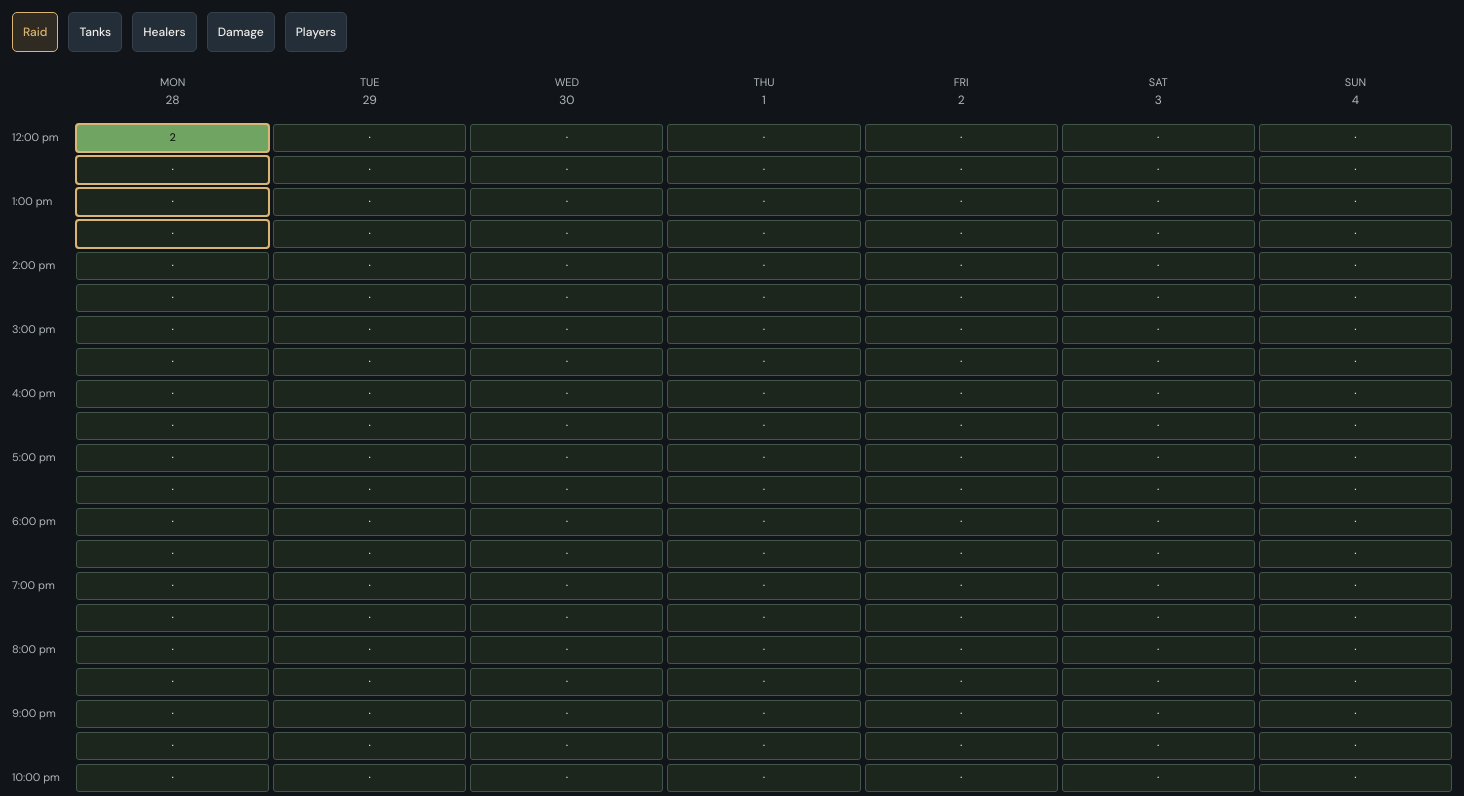
Test: Heatmap › role views count players who can fill that role
The image size is (1464, 796).
Click the button "Tanks" at x=95, y=32, box x1=68 y1=12 x2=122 y2=52
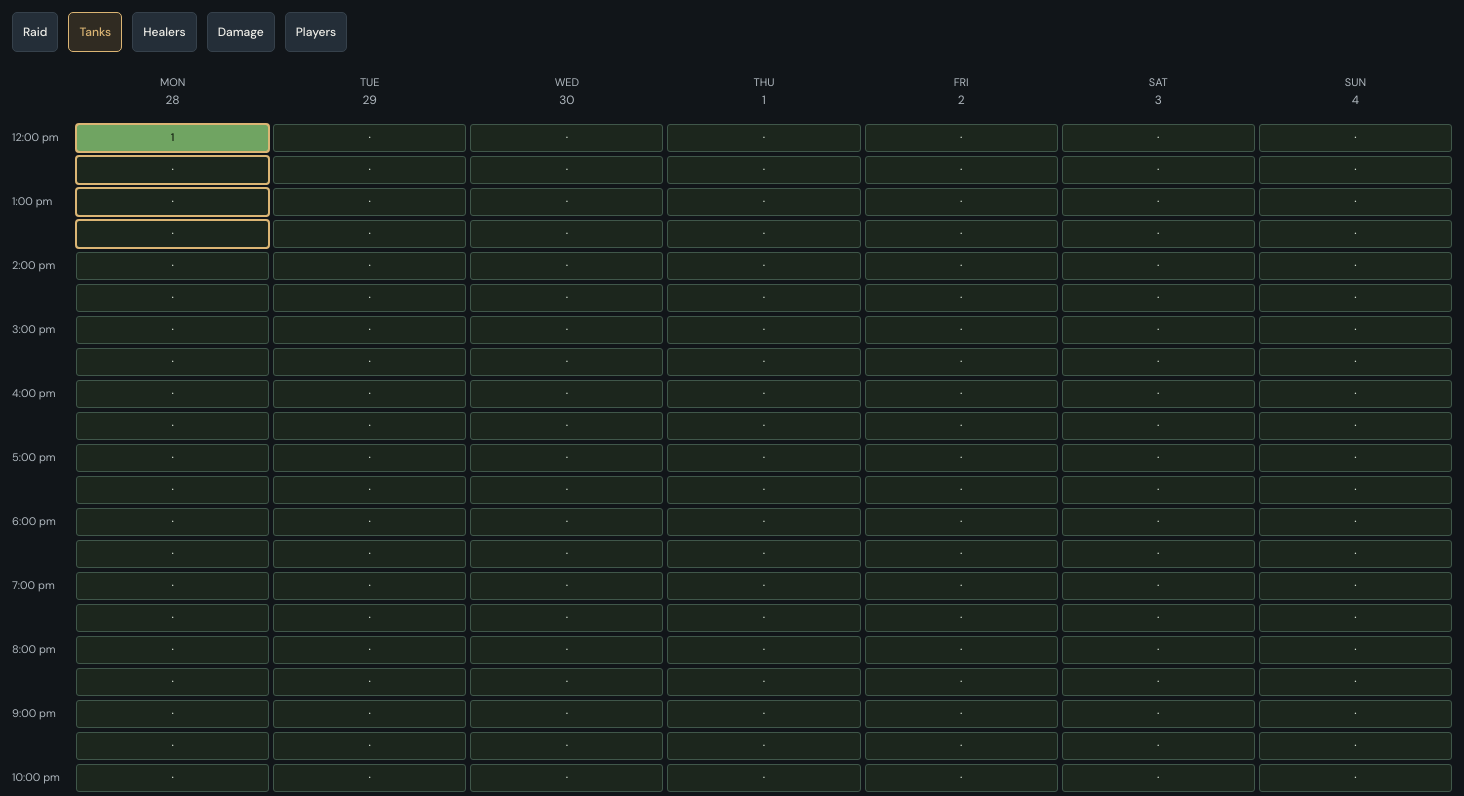
Now the button with class "cell" reads "1", box x1=76 y1=124 x2=269 y2=152
Click the button "Players" at x=316, y=32, box x1=285 y1=12 x2=347 y2=52
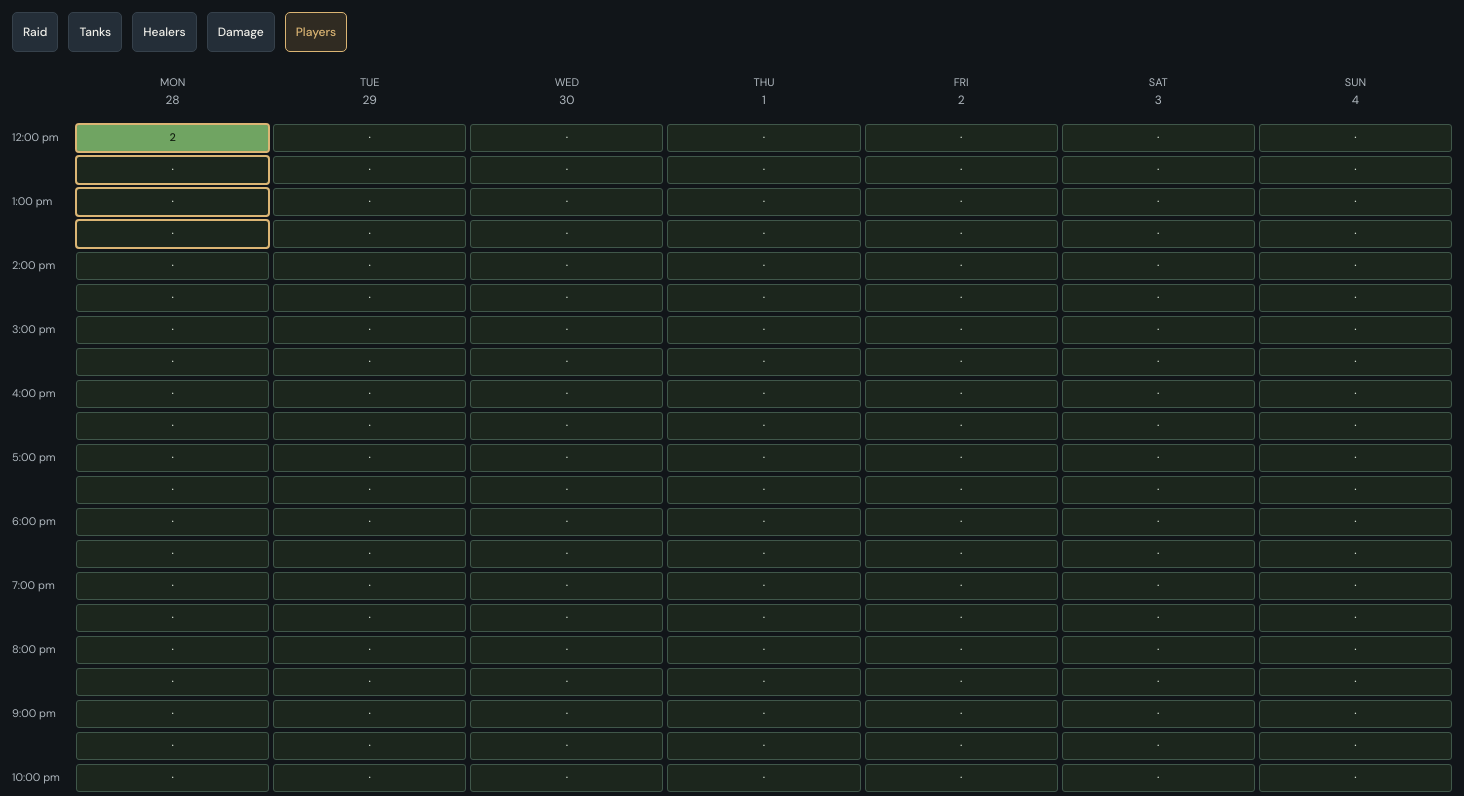
Now the button with class "cell" reads "2", box x1=76 y1=124 x2=269 y2=152
